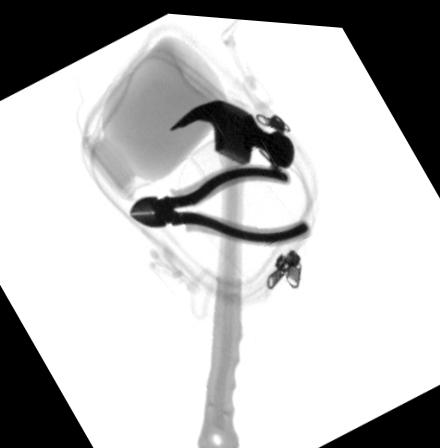Hammer: (170, 95, 296, 448)
Pliers: (129, 157, 312, 242)
